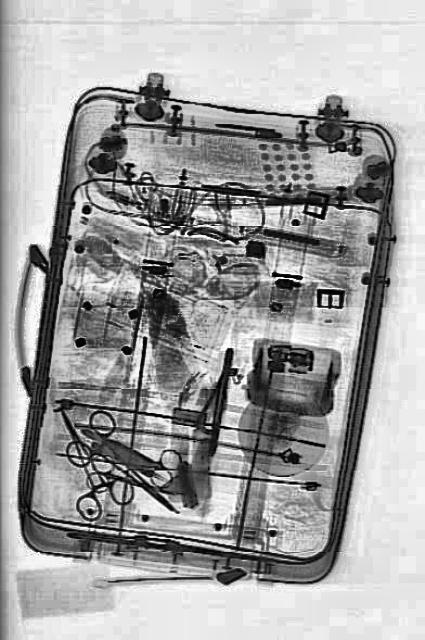Scissors: (61, 394, 191, 544), (36, 382, 136, 536), (96, 412, 184, 498), (82, 449, 150, 506)
